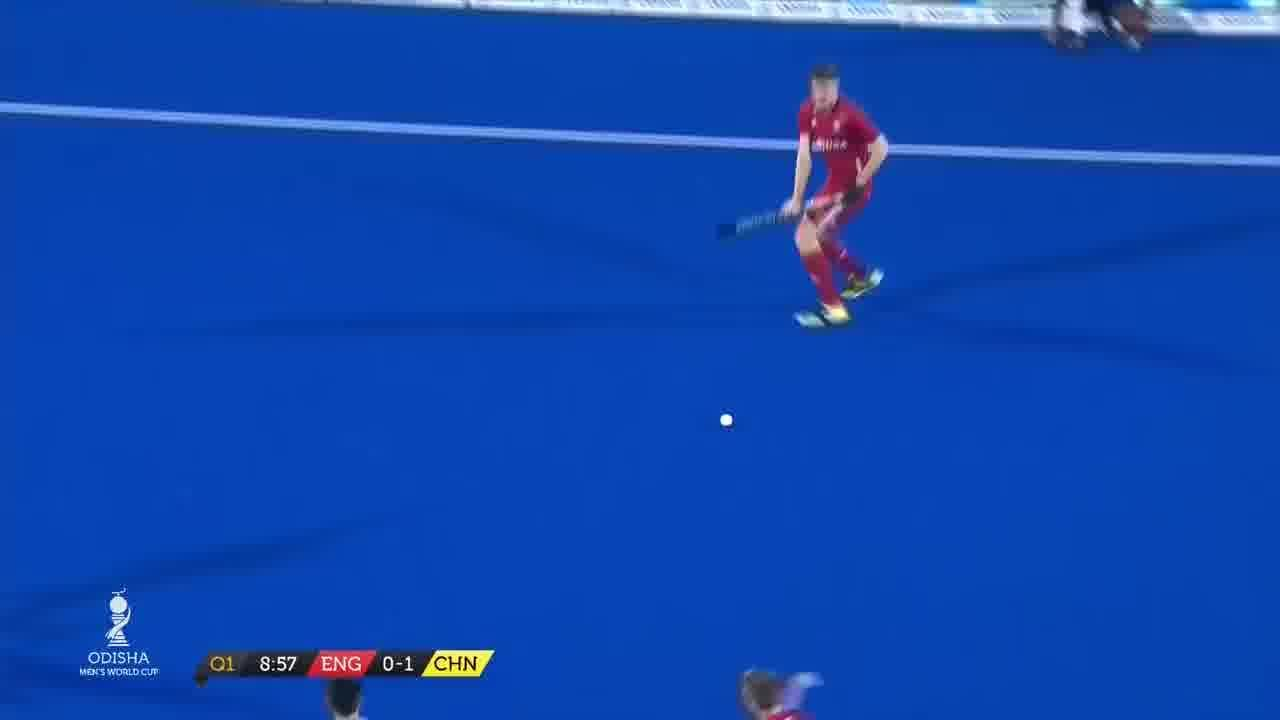ball: (714, 410, 738, 432)
